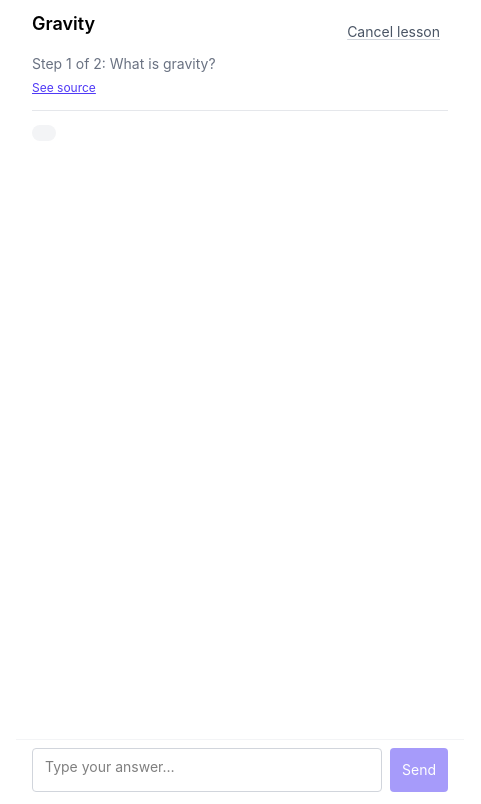
it: ChatScreen › sends on Enter, and leaves Shift+Enter alone for the browser to insert a newline
The width and height of the screenshot is (481, 804).
Type "Line one" into the text box with placeholder "Type your answer…" at {"x": 207, "y": 770}, box [32,748,382,792]
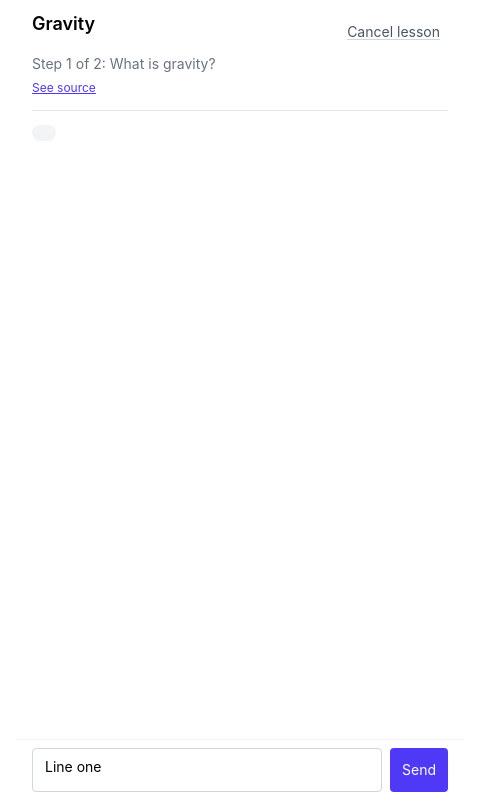
Press Enter in the text box with placeholder "Type your answer…", box [32,748,382,792]
Press Enter in the text box with placeholder "Type your answer…", box [32,748,382,792]
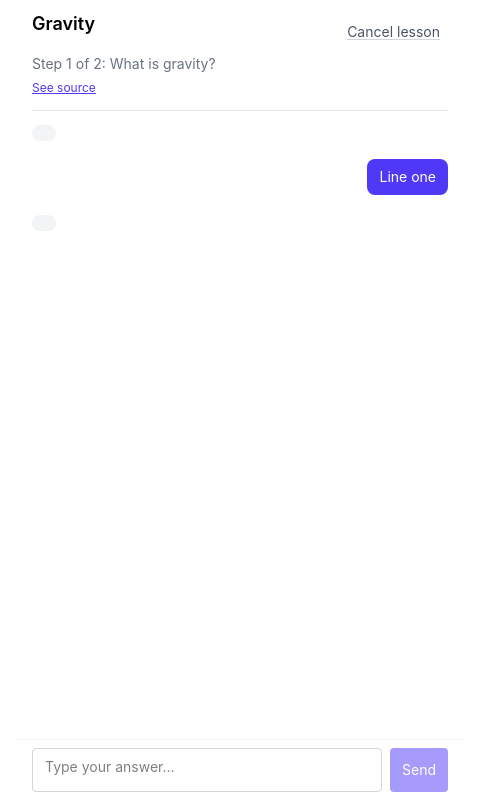
Result: the text "Line one" is shown at [380,167,436,187]
